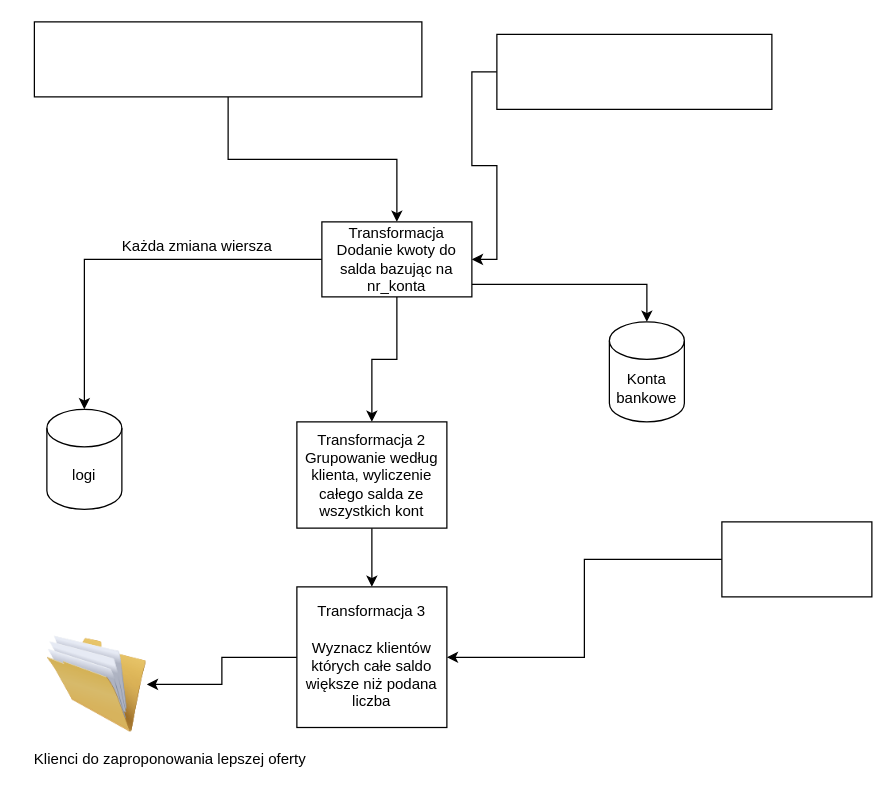
The diagram is 894 pixels wide and 794 high, and some of its shapes have lost their labels. Here are the shapes that lost their labels. From the top down, the centre of each, then its label:
point 227,59: delta (nr_konta,saldo,id_klienta)
point 634,71: csv (data, nr_transakcji,nr_konta,kwota)
point 796,559: txt liczba całkowita
